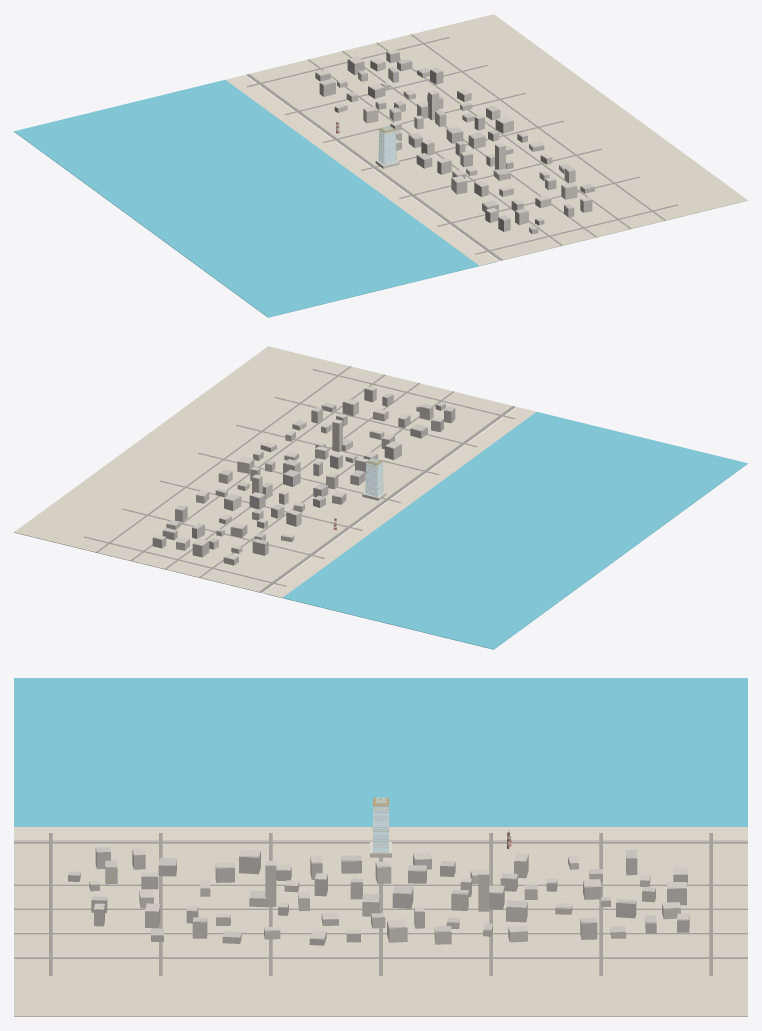
The model's file is dimri.glb.
3 views of the same model, one above another, from view 1: azimuth 30°, elevation 25°; view 2: azimuth 150°, elevation 25°; view 3: azimuth 270°, elevation 25° (orthographic). The views are drawn at different scales.
Visible parts, largest first — view 1: scene; view 2: scene; view 3: scene.
Part boxes in pixels (<box>): scene: <box>14,14,747,317</box>; scene: <box>14,346,747,649</box>; scene: <box>14,678,747,1016</box>.
Size of the model in its own units: 1090 by 81 by 1000.
